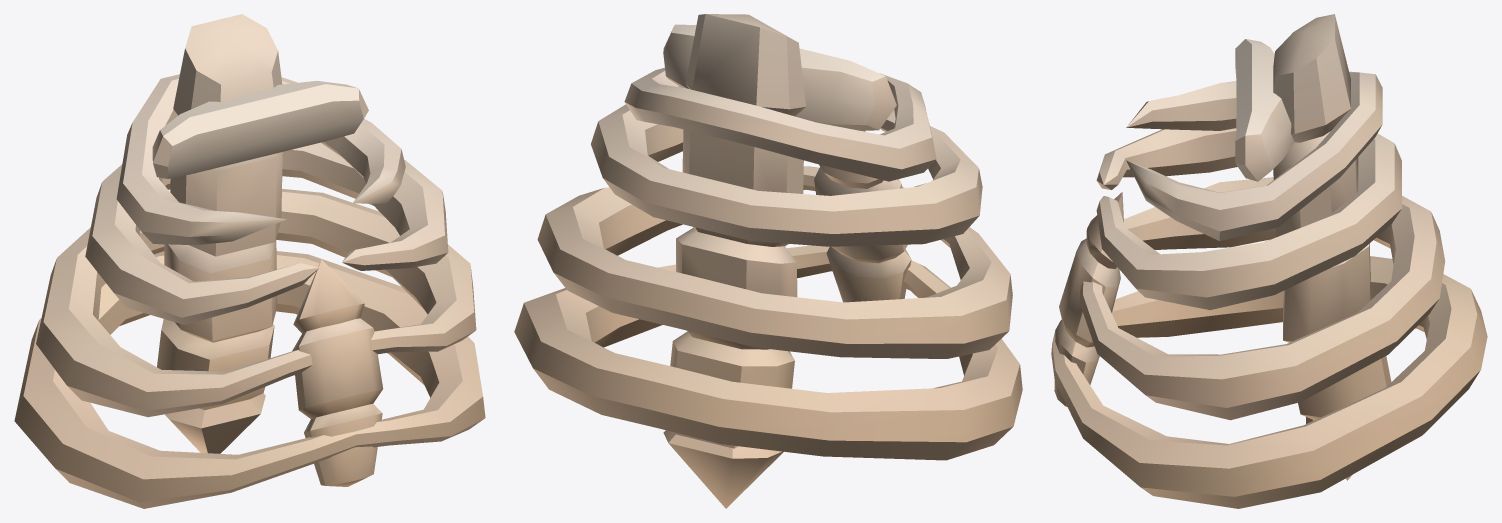
Rendered from ribcage.glb.
3 views of the same model, side by side, from view 1: azimuth 30°, elevation 25°; view 2: azimuth 150°, elevation 25°; view 3: azimuth 270°, elevation 25° (orthographic). The views are drawn at different scales.
Parts seen in each view (by area): view 1: ribcage; view 2: ribcage; view 3: ribcage.
Part boxes in pixels (x1,y1,x2,y2): ribcage: [14, 14, 485, 508]; ribcage: [514, 14, 1022, 508]; ribcage: [1051, 14, 1487, 508].
Bounding box in the file's own units: 0.8457 × 0.8582 × 0.7469.
1 material, 1 textured.
